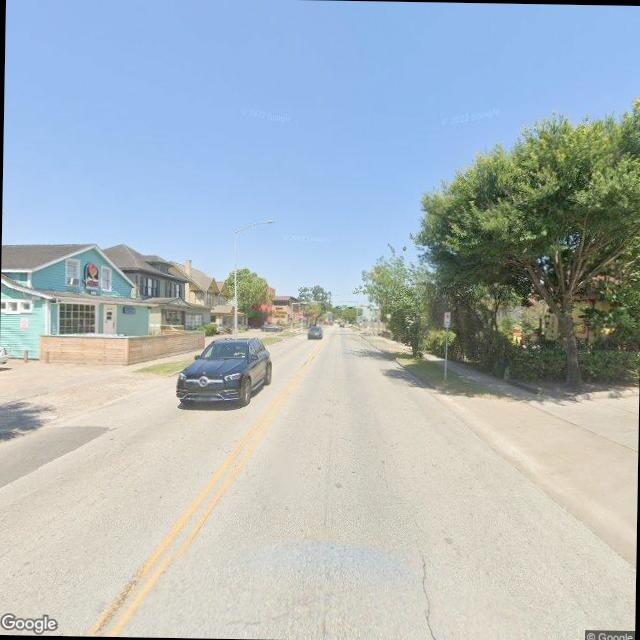crack: (400, 498, 444, 640)
